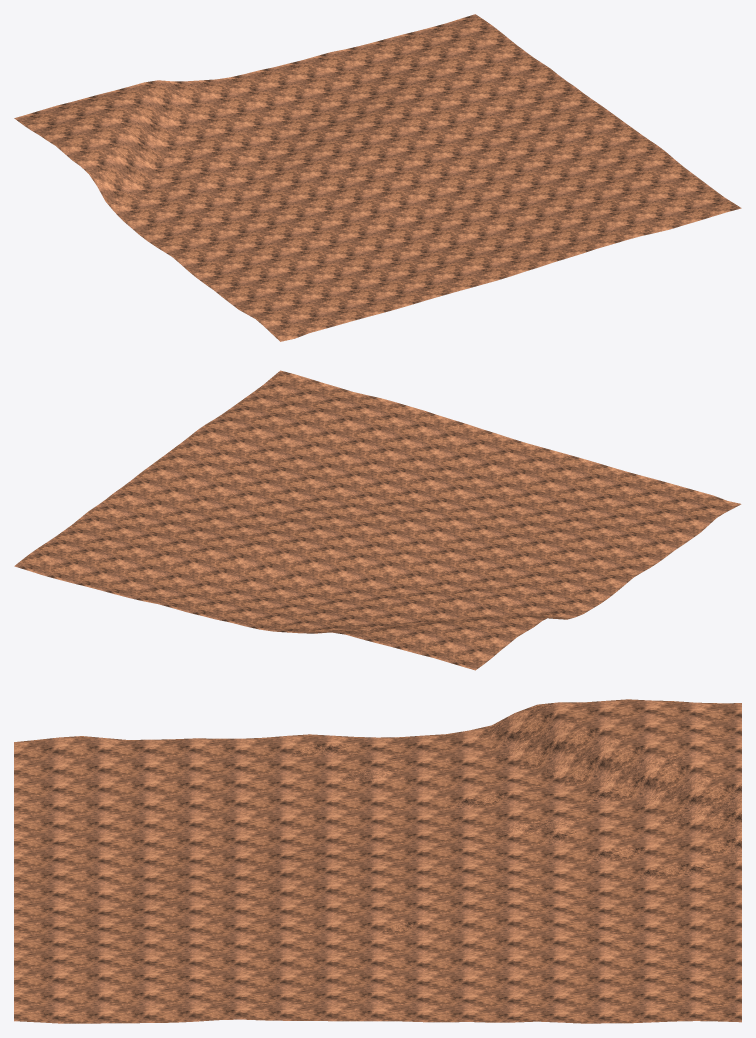
The model's file is terrain_10_18.dae.
The picture shows the model from 3 angles, top to bottom: view 1: azimuth 30°, elevation 25°; view 2: azimuth 150°, elevation 25°; view 3: azimuth 270°, elevation 25°; orthographic projection. The views are drawn at different scales.
Parts seen in each view (by area): view 1: terrain_10_18-node; view 2: terrain_10_18-node; view 3: terrain_10_18-node.
Part boxes in pixels (box(x1,y1,x2,y2)): terrain_10_18-node: box(14, 14, 741, 341); terrain_10_18-node: box(14, 370, 741, 670); terrain_10_18-node: box(14, 699, 741, 1023).
Bounding box in the file's own units: 128 × 128 × 9.14.
Materials: 1 (1 with a texture image).
